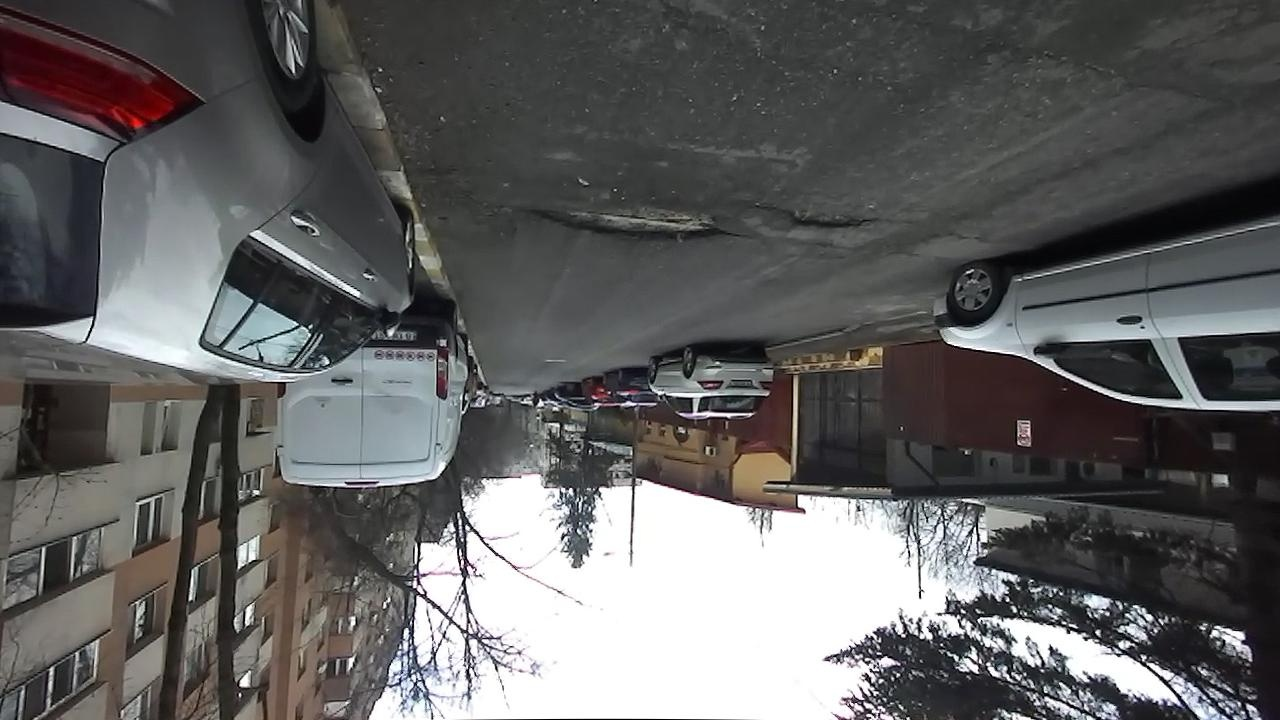pothole: (517, 197, 748, 247), (751, 200, 879, 232)
